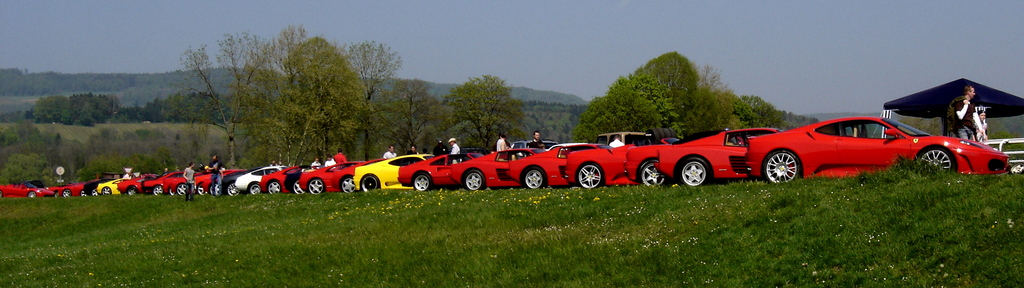Car: (0, 115, 1023, 203)
